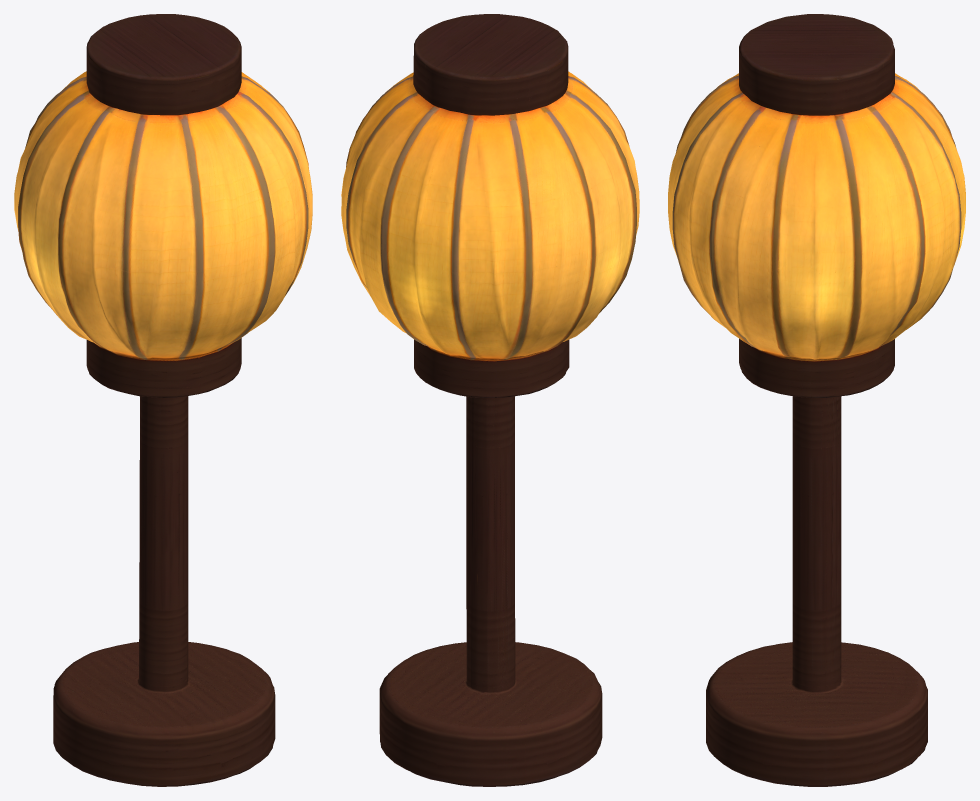
Rendered from lantern.glb.
3 renders of one model, left to right at view 1: azimuth 30°, elevation 25°; view 2: azimuth 150°, elevation 25°; view 3: azimuth 270°, elevation 25°, orthographic.
Bounding box in the file's own units: 0.7397 × 1.91 × 0.7397.
1 material, 1 textured.
